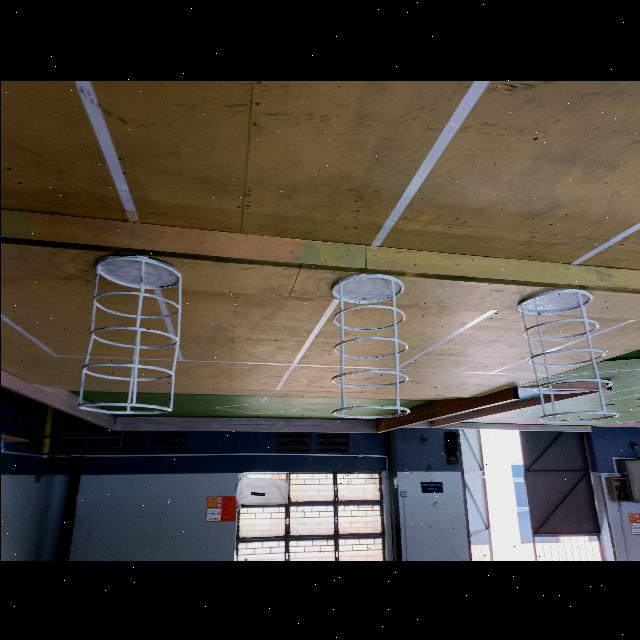S: (79, 256, 180, 413), (516, 289, 618, 423), (329, 272, 409, 418)
